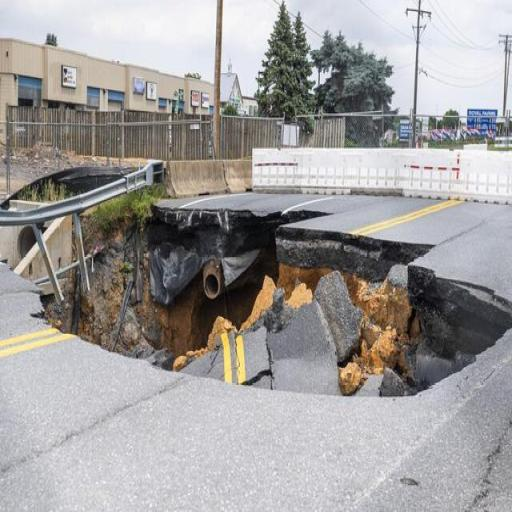Concentric_Crack: (0, 184, 512, 395), (3, 168, 126, 208)
